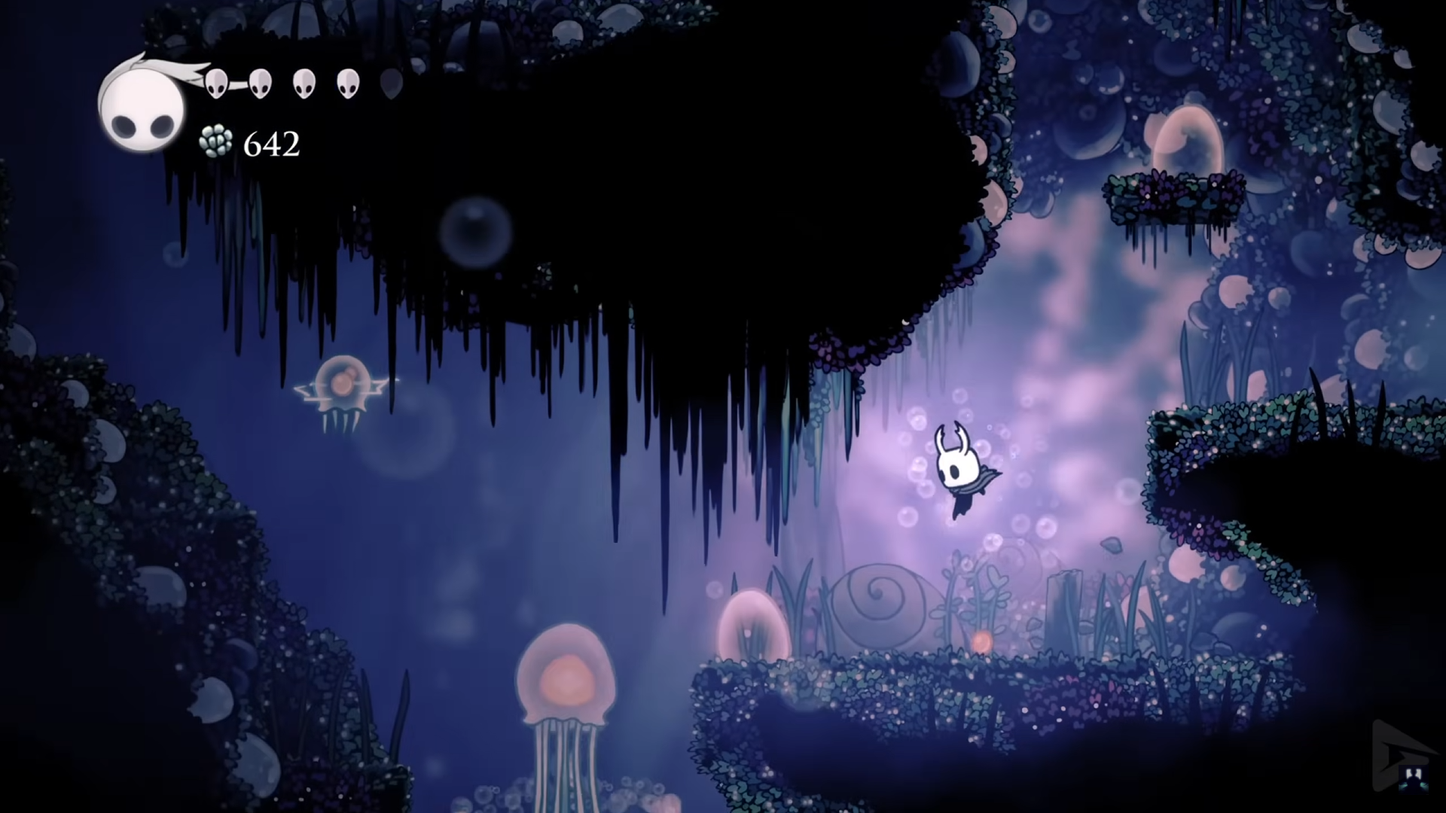HK: (925, 422, 992, 519)
